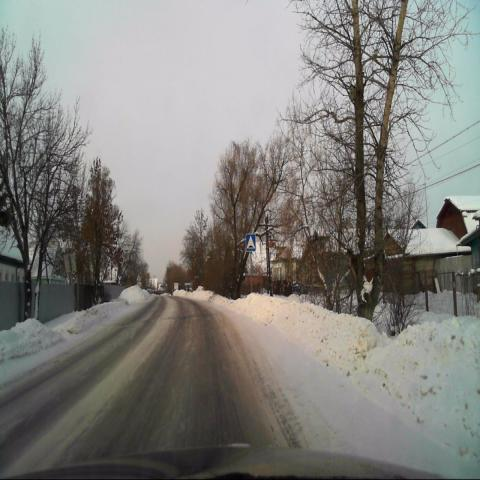5_20: (246, 234, 255, 252)
